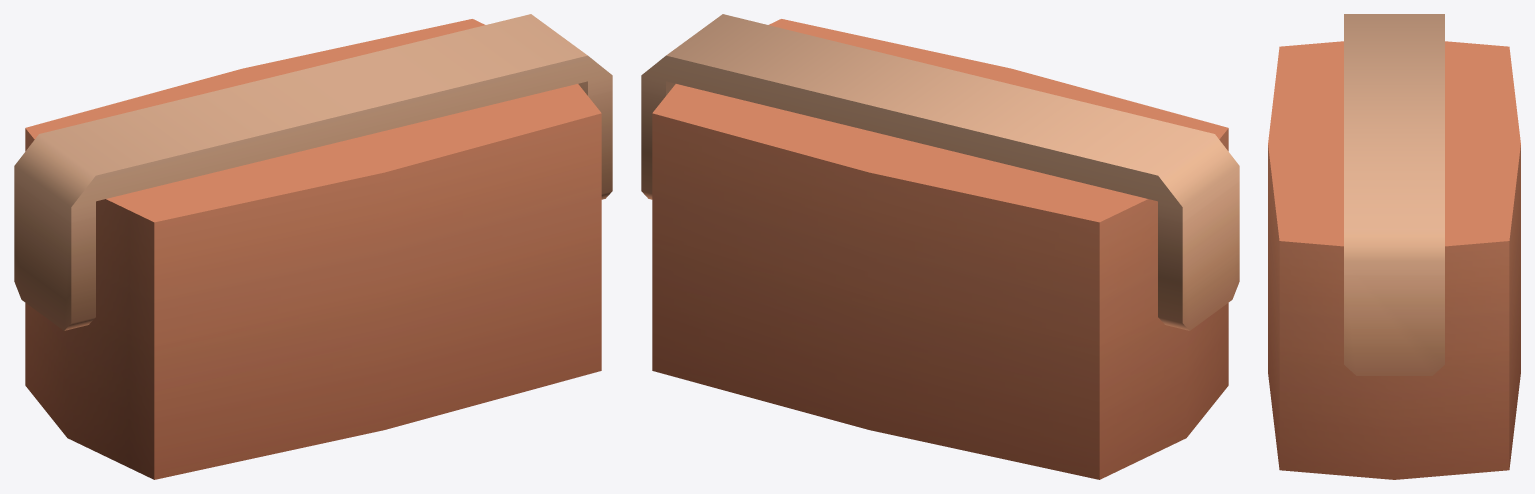
Rendered from box-long.glb.
3 renders of one model, left to right at view 1: azimuth 30°, elevation 25°; view 2: azimuth 150°, elevation 25°; view 3: azimuth 270°, elevation 25°, orthographic. The views are drawn at different scales.
Parts seen in each view (by area): view 1: box-long; view 2: box-long; view 3: box-long.
Part boxes in pixels (x1,y1,x2,y2): box-long: (14,14,612,479); box-long: (641,14,1239,479); box-long: (1268,14,1520,479).
Bounding box in the file's own units: 1.1 × 0.5501 × 0.5.
Materials: 1 (1 with a texture image).
